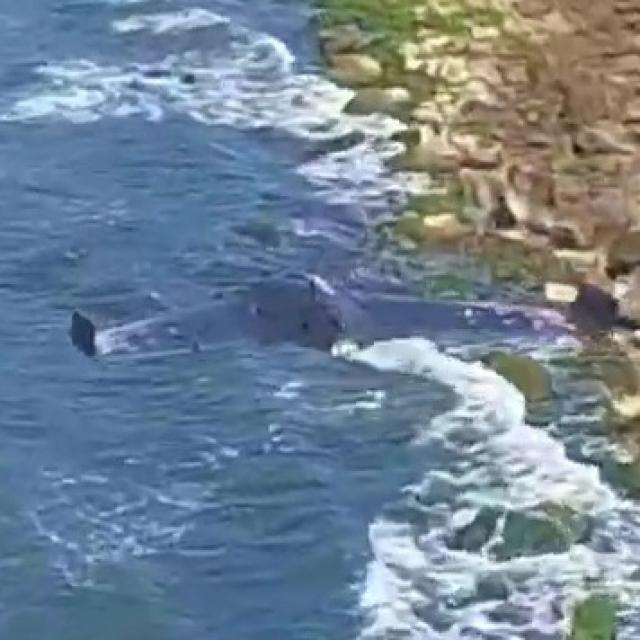iha: (56, 300, 588, 344)
